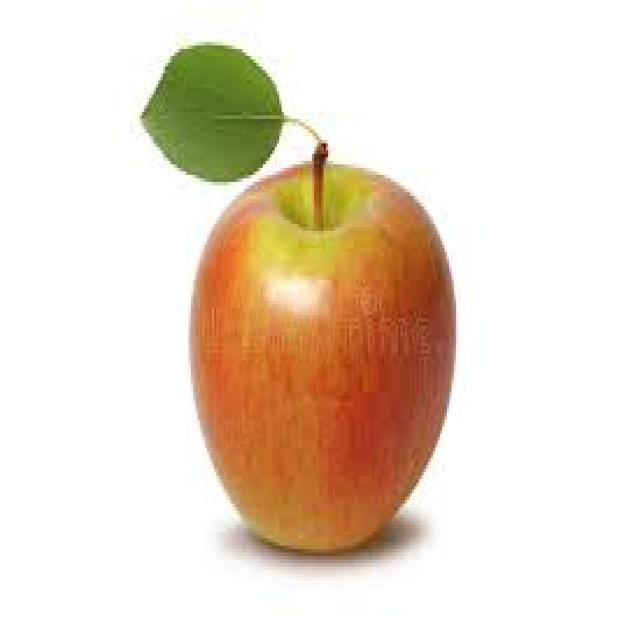apple: (177, 146, 462, 564)
